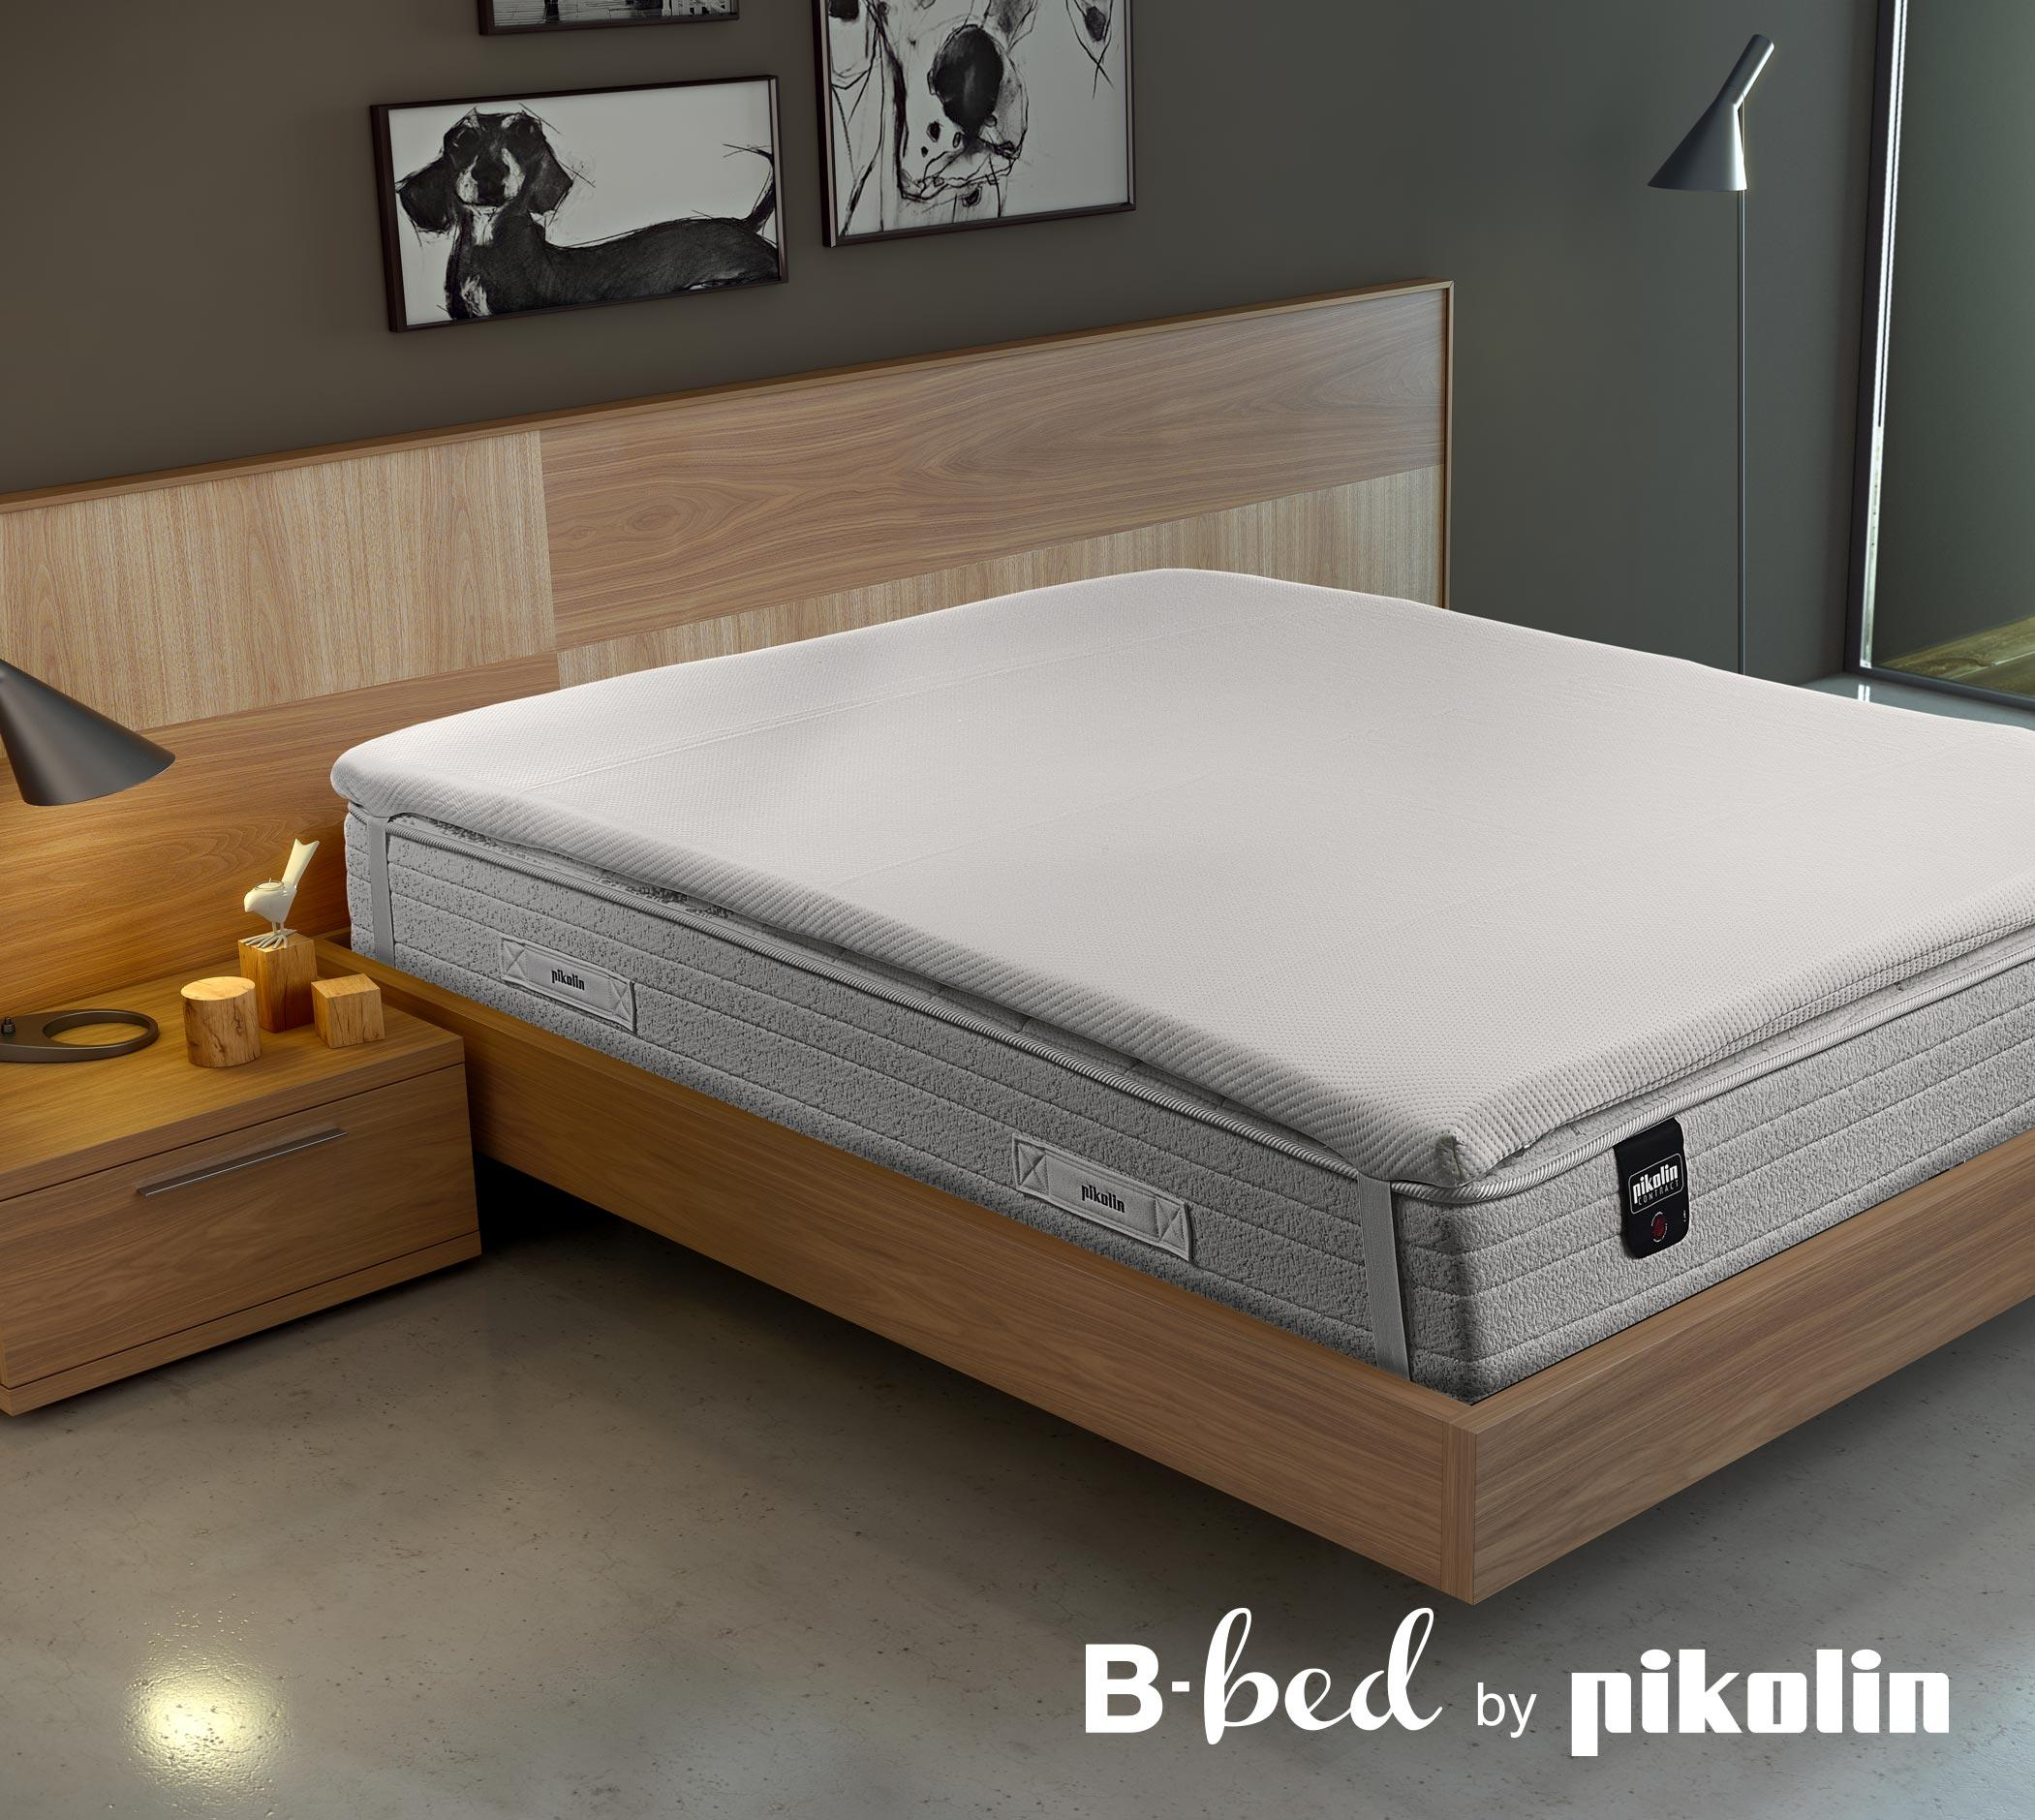bed: (309, 474, 2035, 1453)
